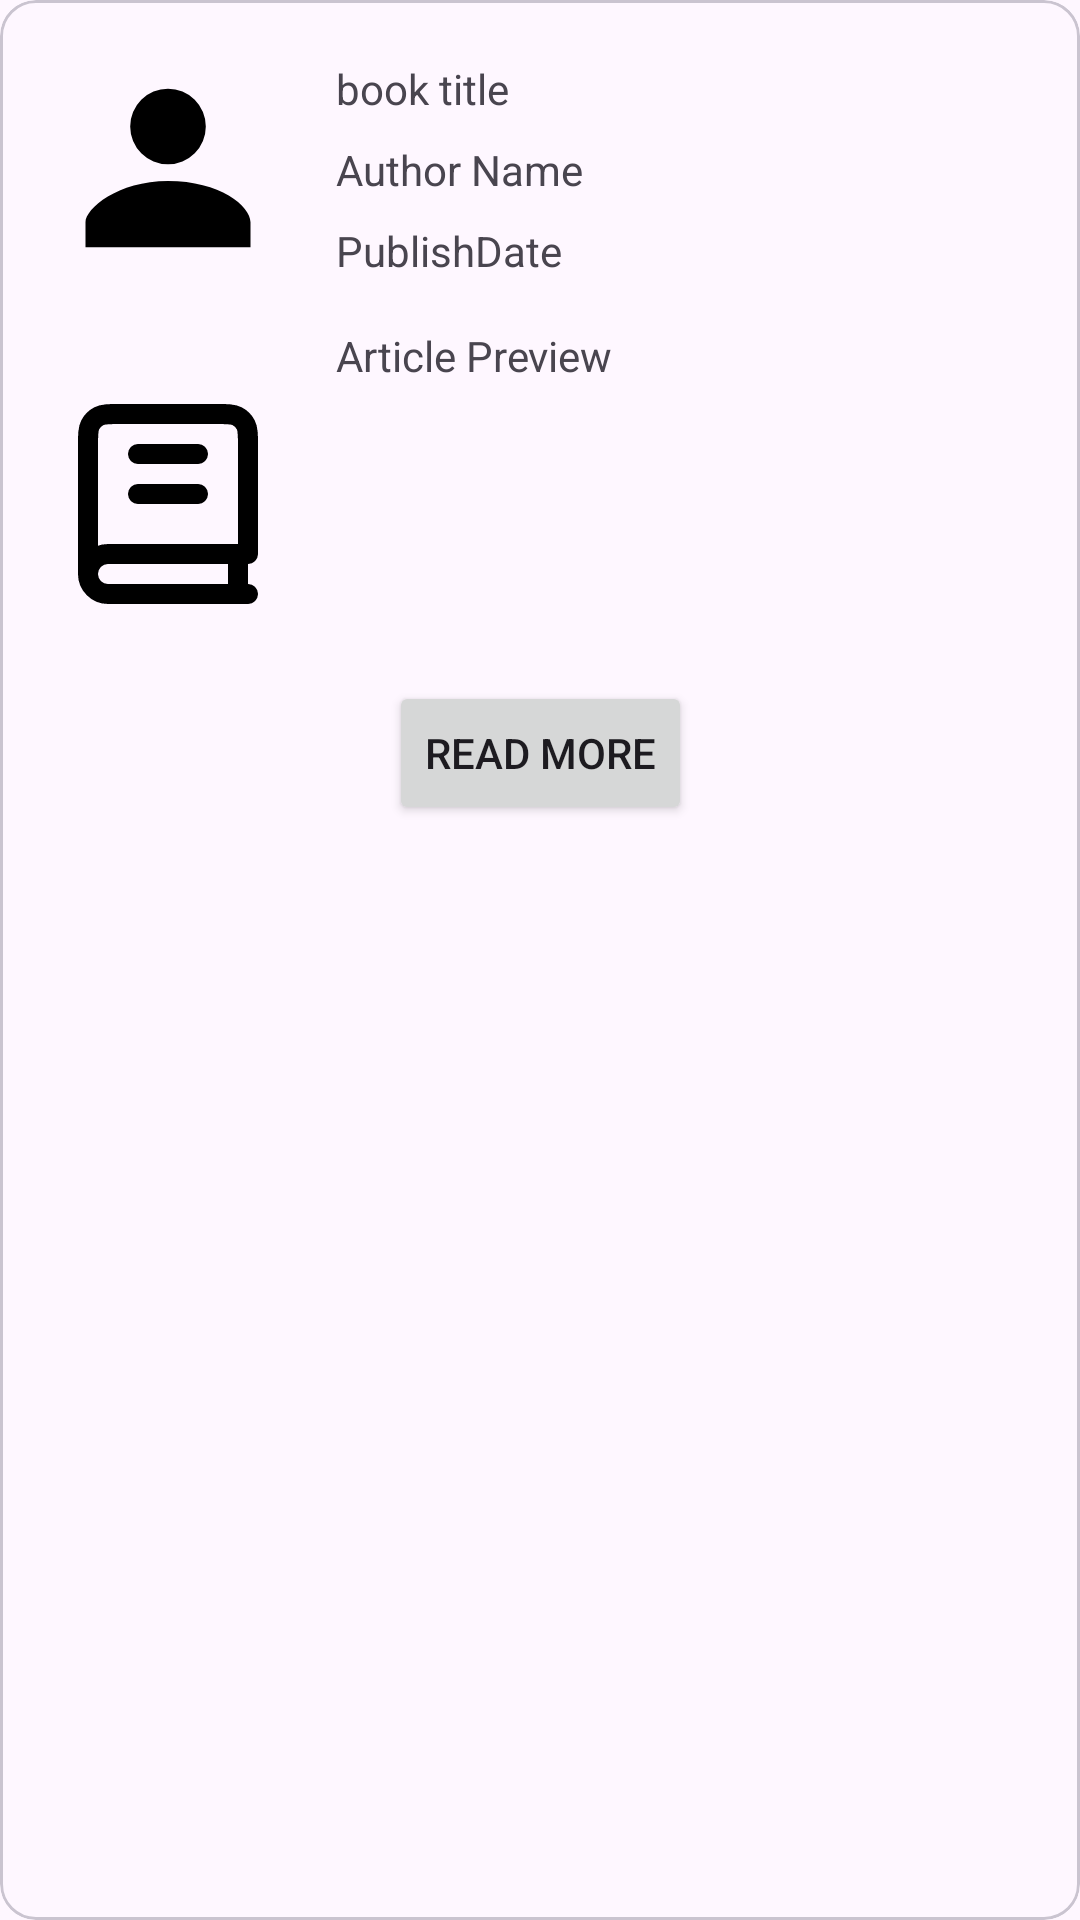

Named icons in this screenshot (1080*1920) and their centers, point (x, y):
book: point (168, 504)
person: point (168, 168)
